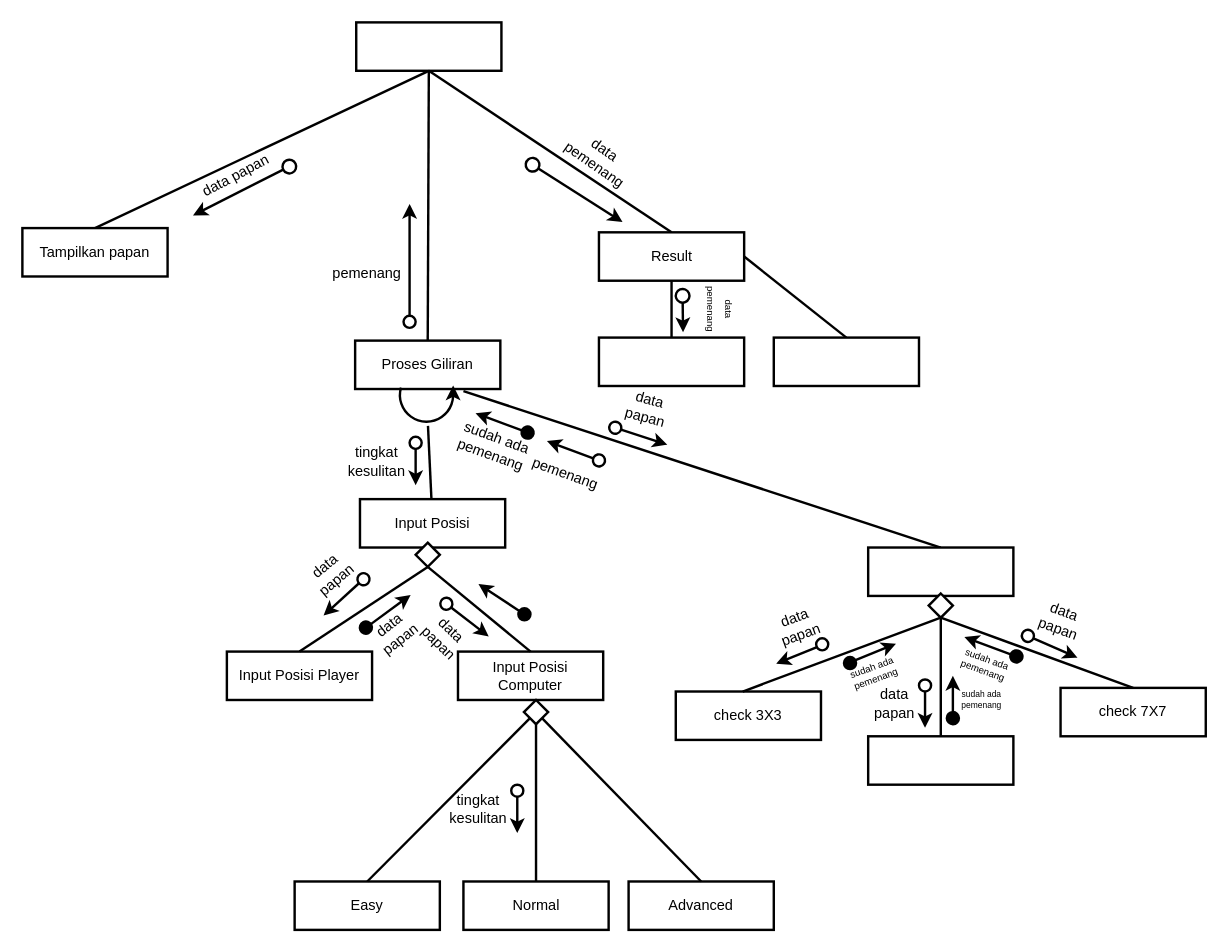
Some shapes in this 1227 by 951 pixel diagram are drawn without their labels. The shapes that lost their labels are listed below. From the top down, each one's box as (x1, y1, x2, y2) in pixels, then its label:
(354, 21, 502, 71): Start
(597, 336, 745, 387): Simpan ke highscore
(772, 336, 920, 387): Main Menu
(866, 546, 1014, 597): Pemeriksaan Pemenang
(866, 734, 1014, 785): check 5X5
